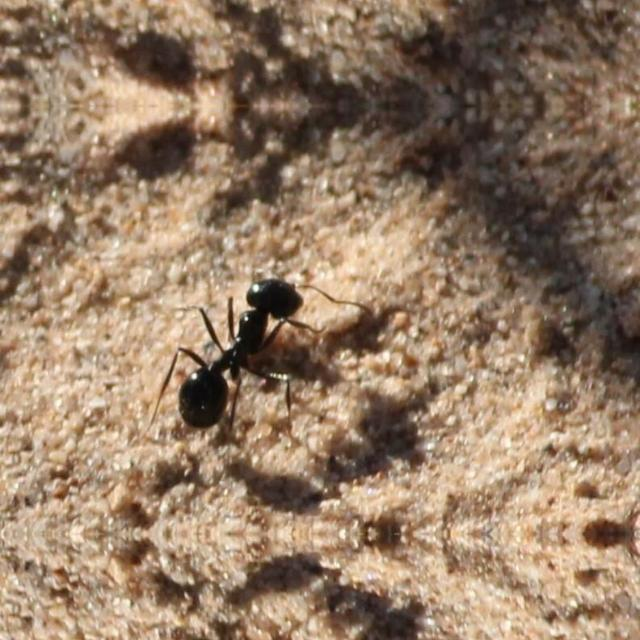Messor: (175, 264, 309, 448)
